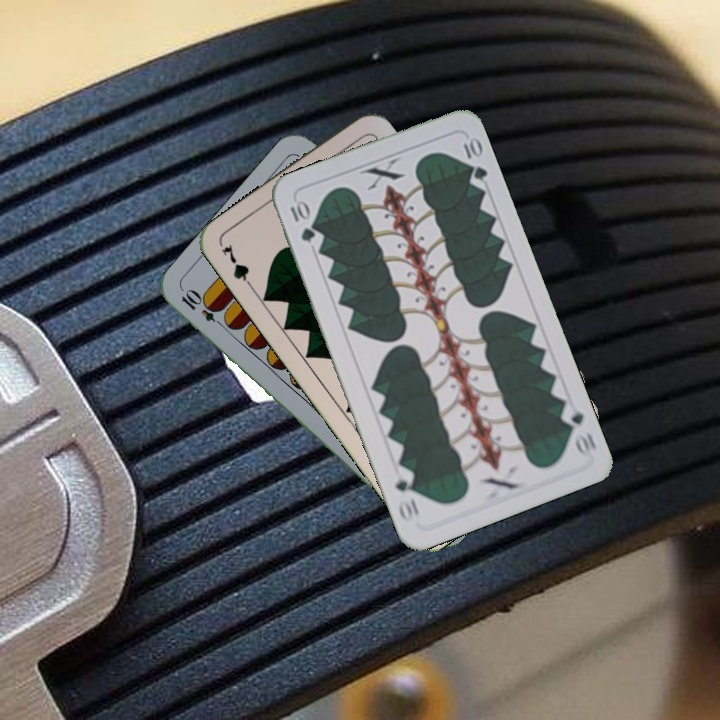E10: (177, 286, 229, 331)
G10: (557, 404, 599, 457), (286, 196, 318, 245)
G7: (217, 240, 258, 294)
